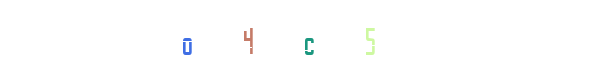4: (209, 0, 289, 80)
5: (329, 0, 409, 80)
C: (265, 0, 345, 80)
O: (202, 0, 282, 80)
